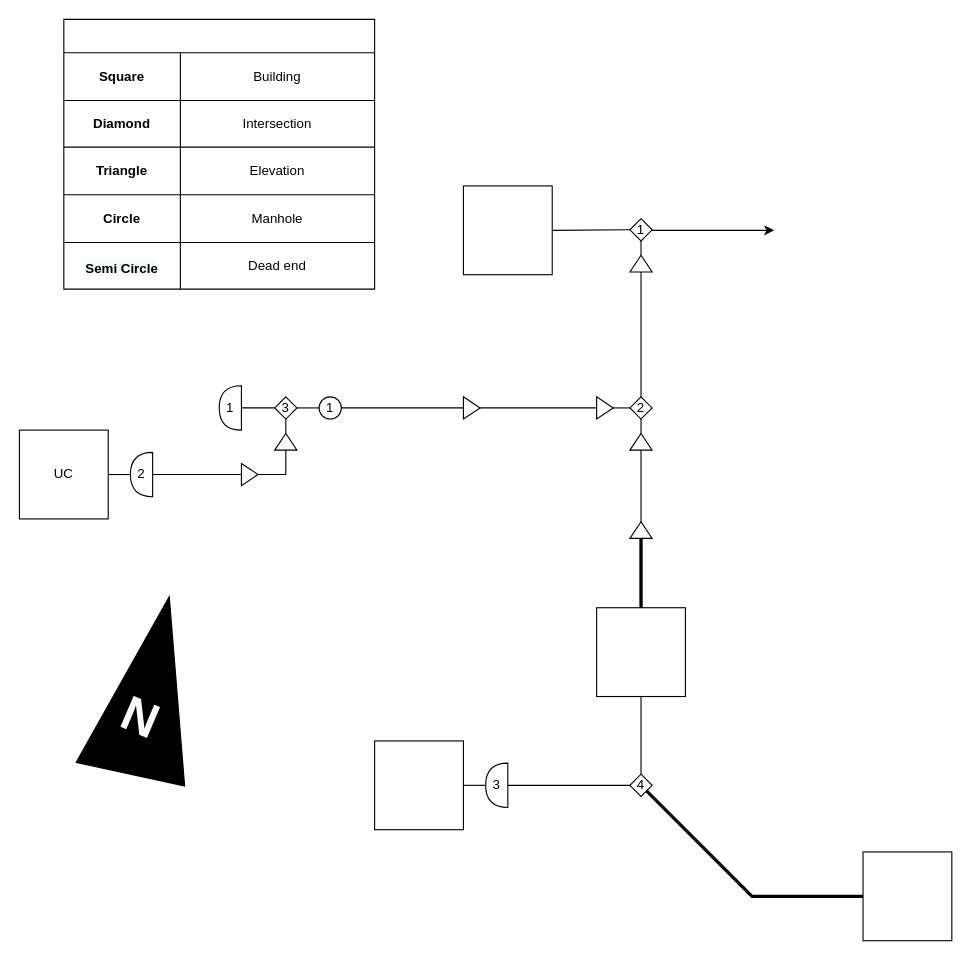
Some shapes in this 971 by 960 pixel diagram are drawn without their labels. The shapes that lost their labels are listed below. From the top down, each one's box as (x1, y1, x2, y2) in pixels, then its label:
(63, 18, 375, 289): LEGEND
(462, 185, 552, 275): LINDERMAN
(596, 607, 685, 697): COPPEE
(374, 740, 463, 830): DROWN
(862, 851, 952, 941): LAMBERTON
